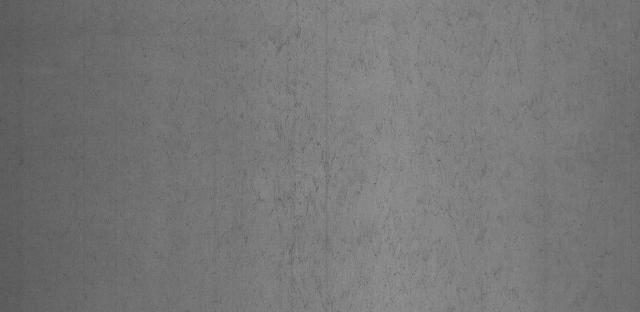silk_spot: (373, 13, 628, 307), (238, 8, 365, 294)
